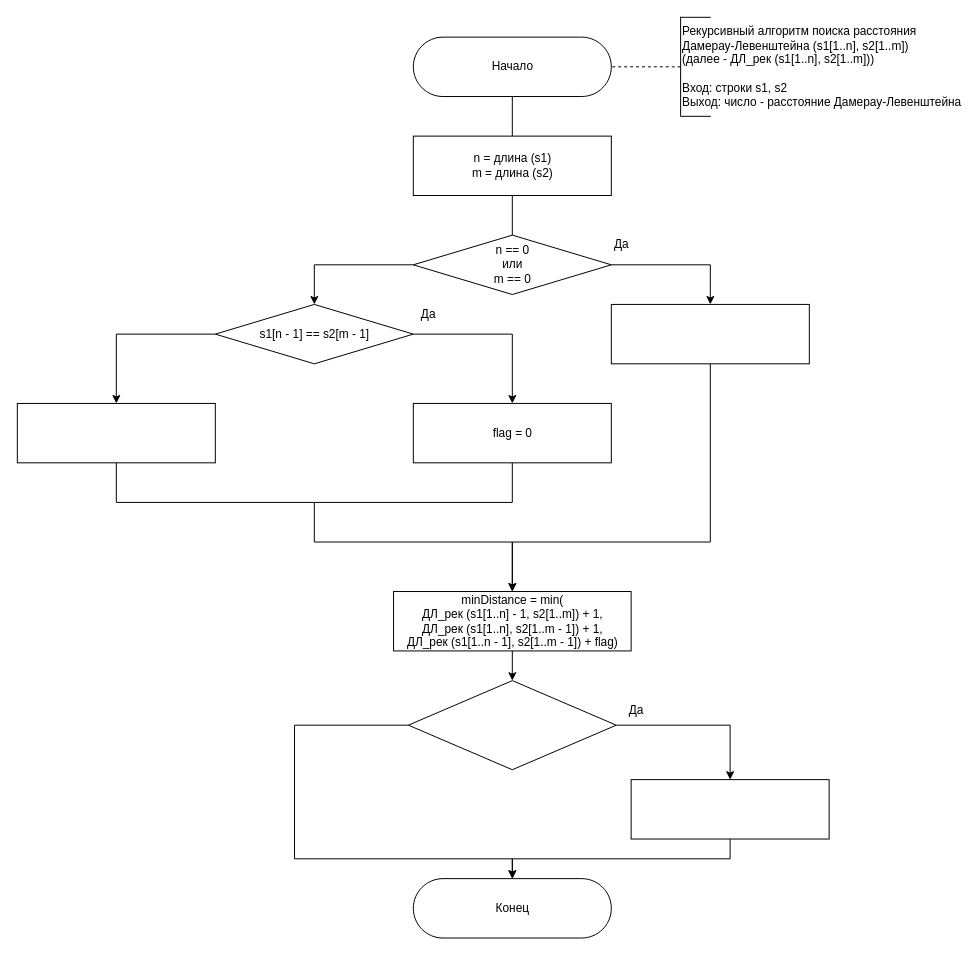
This 979x955 diagram has some shape labels left out. The shapes that lost their labels are listed below. From the top down, each one's centre as x and y in pixels, then its label:
At point 709,333: "Вернуть |n - m|".
At point 115,432: "flag = 1".
At point 511,725: "n > 1 && m > 1 && s1[n -1] == s2[m - 2] && s1[n - 2] == s2[m - 1]".
At point 729,809: "minDistance = min(minDistance, ДЛ_рек (s1[1..n - 2], Л[1..m - 2] ) + 1)".
